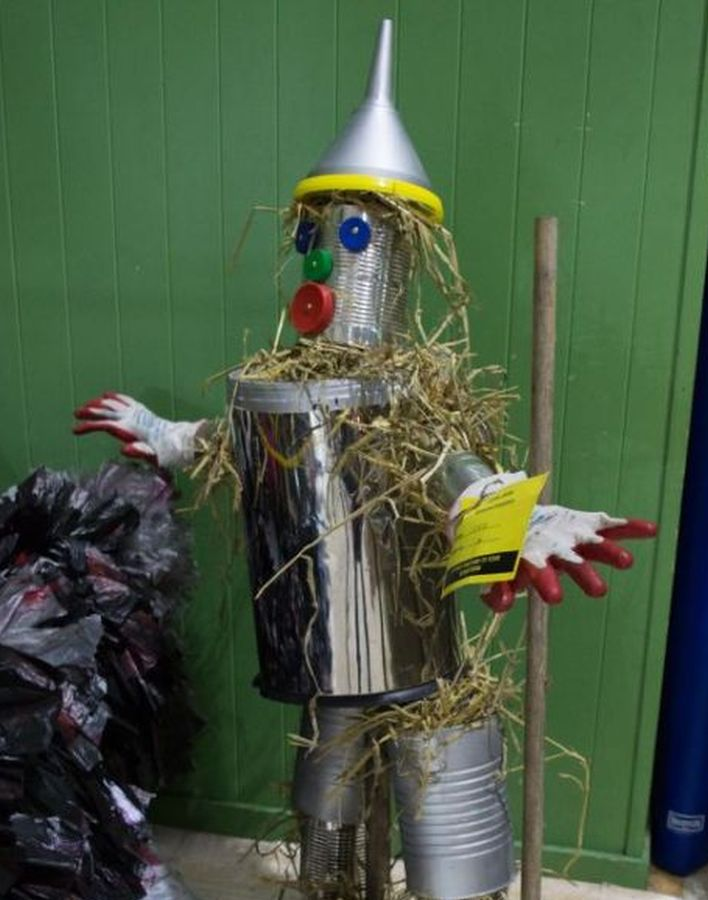person-like: (69, 14, 660, 900)
